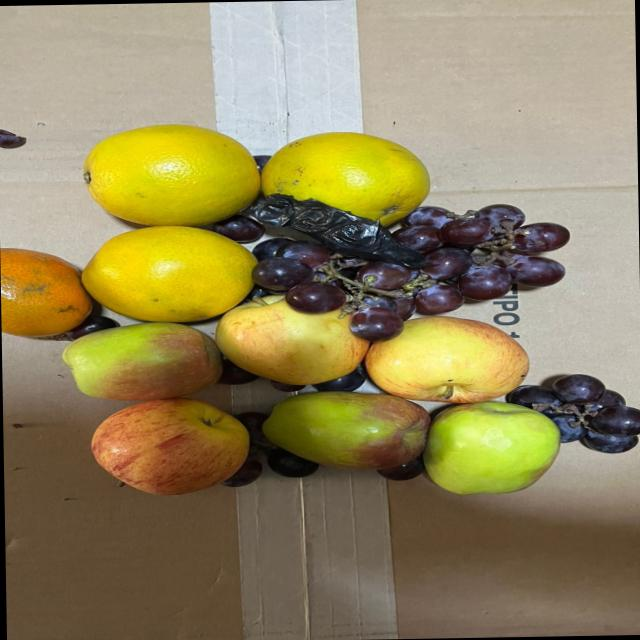bolsa_negra: (257, 200, 408, 264)
